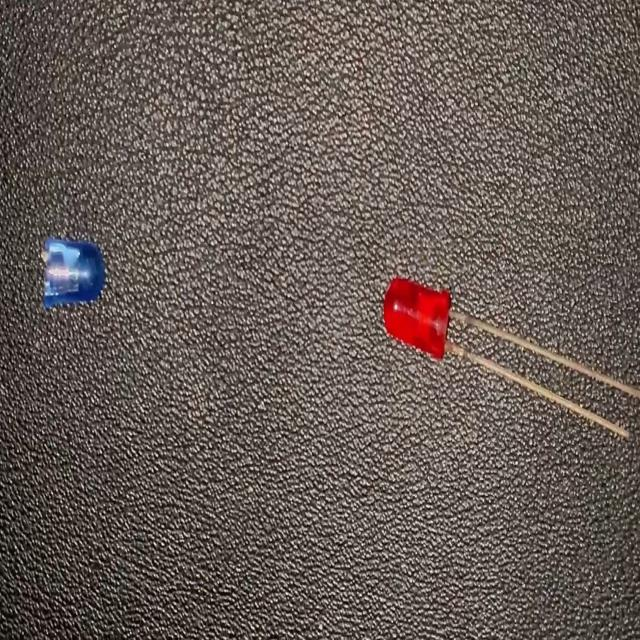LED: (382, 270, 640, 443)
missing-leg: (41, 233, 104, 310)
